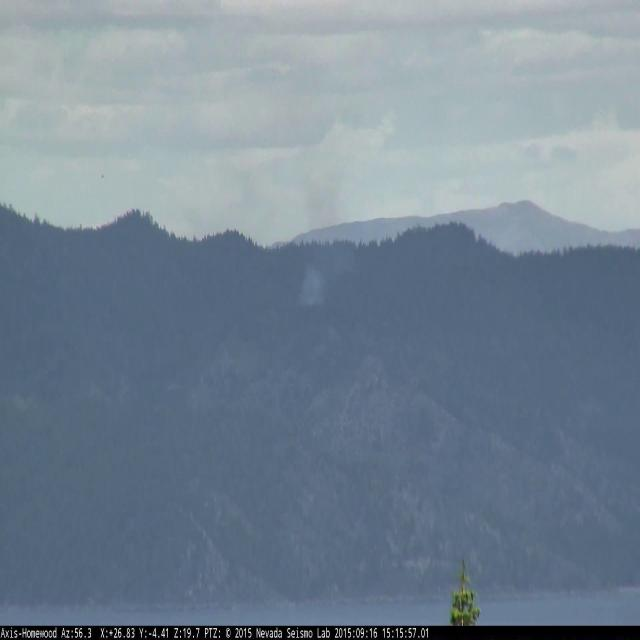smoke: (237, 92, 400, 316)
